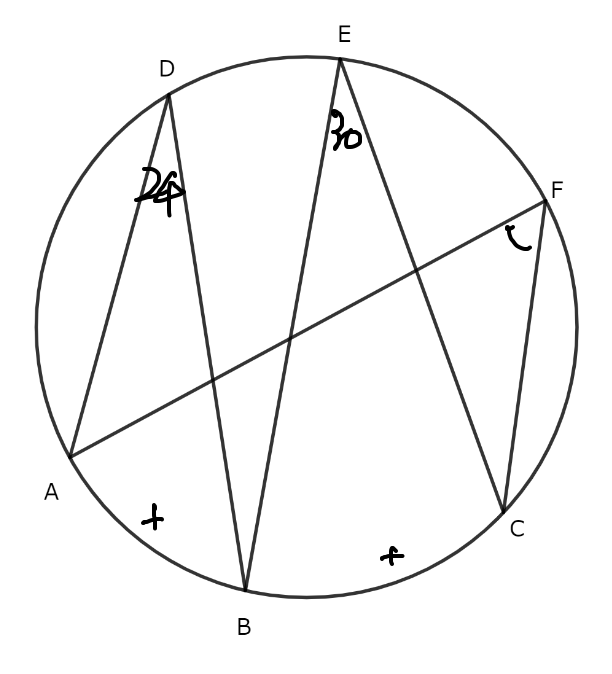Angle_x: (134, 498, 174, 540), (374, 542, 419, 572)
